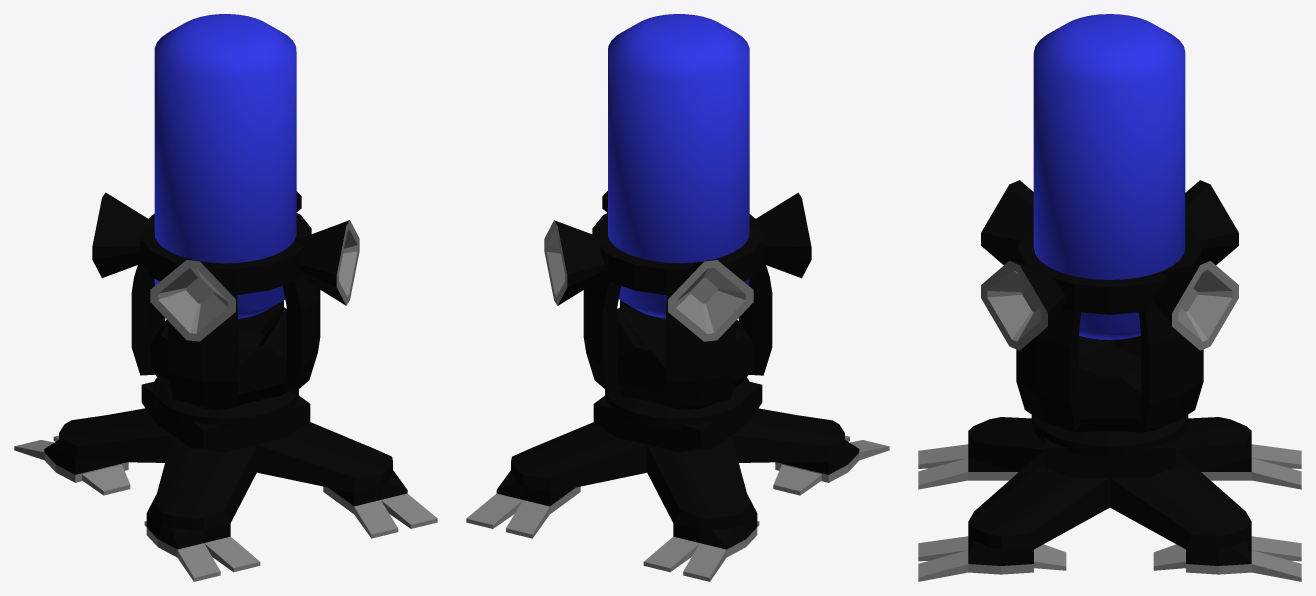
The model's file is tourrel zone.fbx.
3 renders of one model, left to right at view 1: azimuth 30°, elevation 25°; view 2: azimuth 150°, elevation 25°; view 3: azimuth 270°, elevation 25°, orthographic. The views are drawn at different scales.
Visible parts, largest first — view 1: tank.002, pieds.002, protection, cannons, body, rotation; view 2: tank.002, pieds.002, protection, cannons, body, rotation; view 3: pieds.002, tank.002, protection, cannons, body, rotation.
Boxes of the visible parts, box(x1,y1,x2,y2) form: tank.002: box(154, 14, 296, 318); pieds.002: box(14, 381, 437, 581); protection: box(131, 213, 320, 406); cannons: box(92, 191, 359, 341); body: box(150, 305, 287, 409); rotation: box(153, 377, 298, 428); tank.002: box(608, 14, 749, 318); pieds.002: box(466, 382, 889, 581); protection: box(583, 213, 772, 406); cannons: box(544, 191, 811, 341); body: box(616, 305, 753, 409); rotation: box(605, 377, 750, 428); pieds.002: box(918, 417, 1301, 581); tank.002: box(1033, 14, 1185, 339); protection: box(1016, 227, 1203, 430); cannons: box(981, 180, 1238, 350); body: box(1056, 335, 1163, 432); rotation: box(1031, 414, 1188, 457).
Bounding box in the file's own units: 684 × 1227 × 875.
